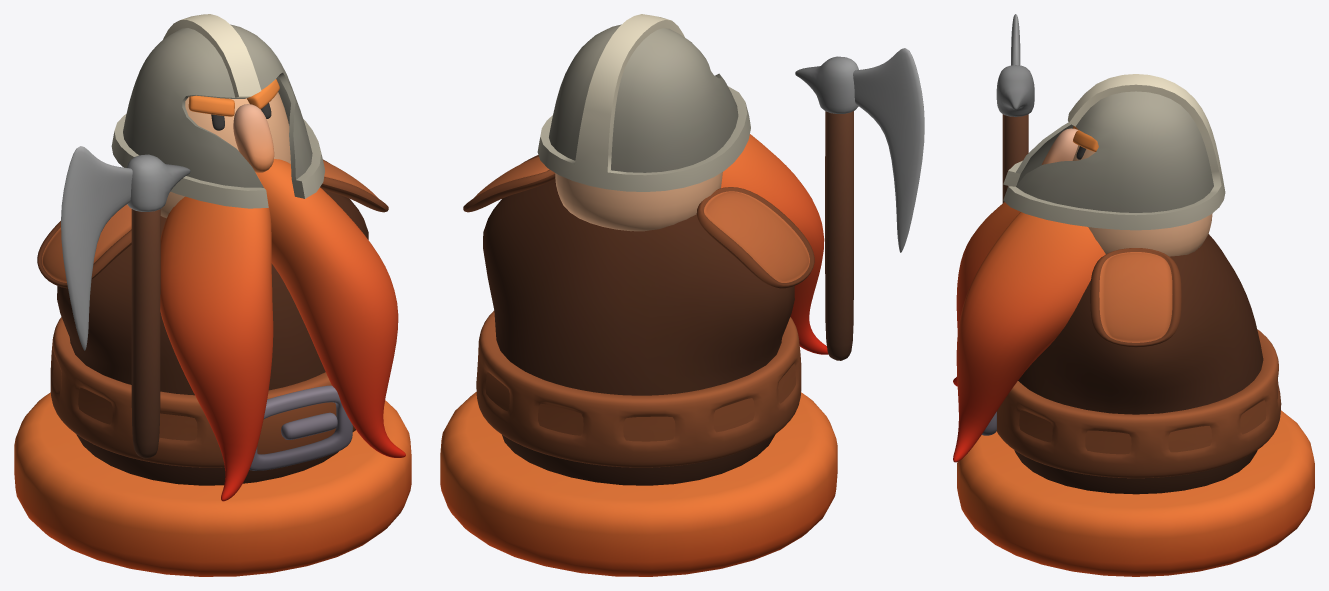
Rendered from Axeman.fbx.
3 renders of one model, left to right at view 1: azimuth 30°, elevation 25°; view 2: azimuth 150°, elevation 25°; view 3: azimuth 270°, elevation 25°, orthographic. The views are drawn at different scales.
Parts seen in each view (by area): view 1: axeman_Base_GEO, axeman_Stand_GEO, axeman_Weapon_GEO; view 2: axeman_Base_GEO, axeman_Stand_GEO, axeman_Weapon_GEO; view 3: axeman_Base_GEO, axeman_Stand_GEO, axeman_Weapon_GEO.
Boxes of the visible parts, x1,y1,x2,y2 form: axeman_Base_GEO: [37, 14, 405, 501]; axeman_Stand_GEO: [14, 392, 411, 576]; axeman_Weapon_GEO: [61, 146, 190, 458]; axeman_Base_GEO: [463, 14, 828, 485]; axeman_Stand_GEO: [440, 392, 837, 576]; axeman_Weapon_GEO: [795, 48, 924, 360]; axeman_Base_GEO: [953, 74, 1281, 494]; axeman_Stand_GEO: [957, 410, 1314, 576]; axeman_Weapon_GEO: [996, 14, 1034, 203].
Size of the model in its own units: 90.79 by 106 by 80.89.
